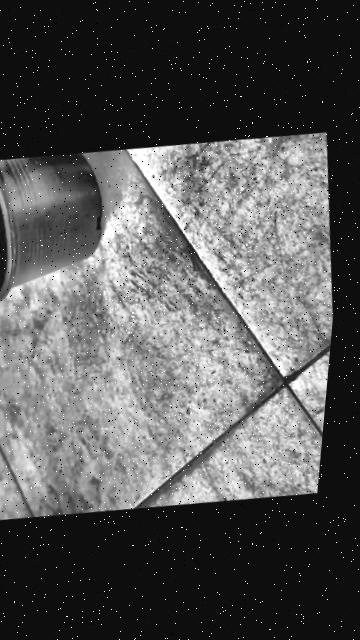pot: (0, 147, 115, 309)
